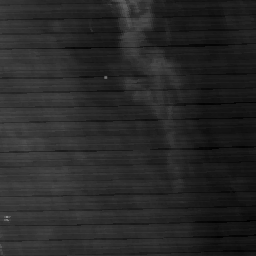Target: (103, 74, 109, 80)
